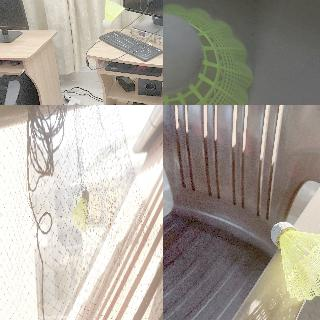shuttlecock: (163, 5, 253, 104), (270, 221, 319, 301), (71, 190, 89, 232), (102, 0, 125, 28)
